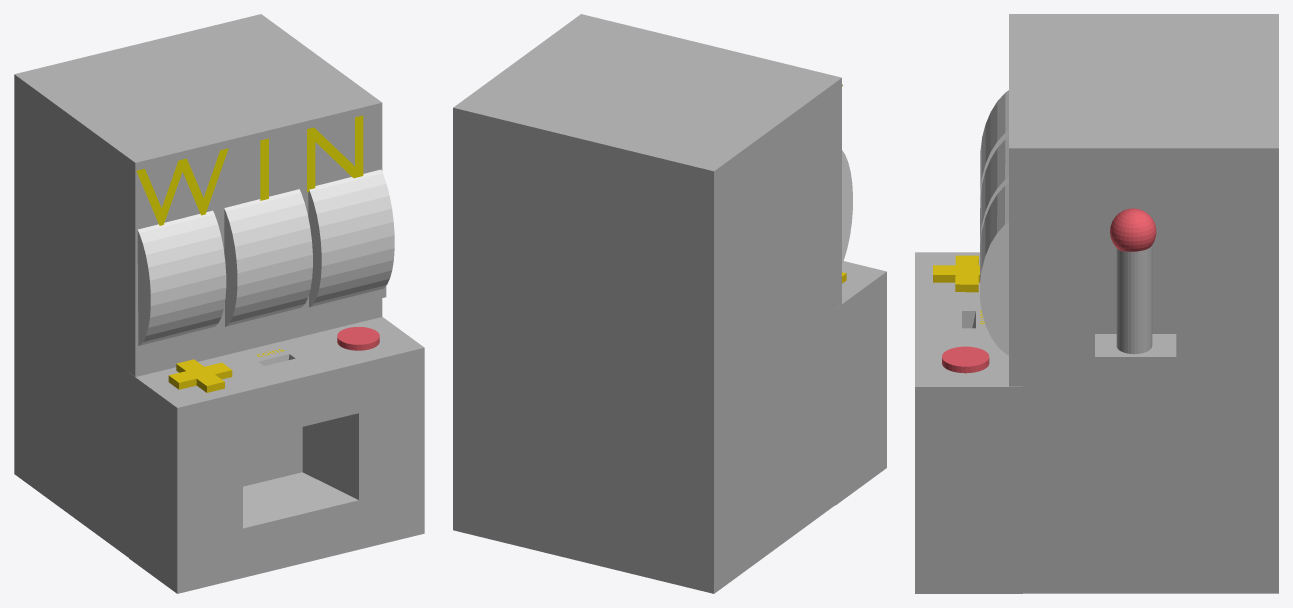
The model's file is slot matchine.fbx.
The picture shows the model from 3 angles, left to right: view 1: azimuth 30°, elevation 25°; view 2: azimuth 150°, elevation 25°; view 3: azimuth 270°, elevation 25°; orthographic projection. The views are drawn at different scales.
Visible parts, largest first — view 1: base, Cube.003, slot 2, slot 1, slot 3, Text, button, Cube.005, Cube.004; view 2: base, Cube.003, slot 1; view 3: base, Cube.003, attachment, slot 3, arm, handle, slot 1, slot 2, button, Cube.005, Cube.004.
Part boxes in pixels (x1,y1,x2,y2): base: (14, 14, 382, 557); Cube.003: (129, 317, 424, 593); slot 2: (224, 189, 312, 326); slot 1: (137, 210, 226, 345); slot 3: (308, 169, 394, 307); Text: (136, 115, 363, 225); button: (337, 327, 379, 350); Cube.005: (168, 362, 232, 389); Cube.004: (176, 359, 224, 392); base: (453, 14, 841, 593); Cube.003: (835, 261, 886, 505); slot 1: (842, 150, 852, 263); base: (1009, 14, 1278, 593); Cube.003: (915, 252, 1022, 593); attachment: (1095, 334, 1176, 430); slot 3: (980, 183, 1008, 355); arm: (1116, 245, 1152, 354); handle: (1110, 208, 1156, 251); slot 1: (980, 90, 1008, 196); slot 2: (980, 137, 1008, 244); button: (942, 346, 989, 373); Cube.005: (955, 255, 978, 292); Cube.004: (933, 265, 979, 282).
Size of the model in its own units: 235 by 310 by 229.
